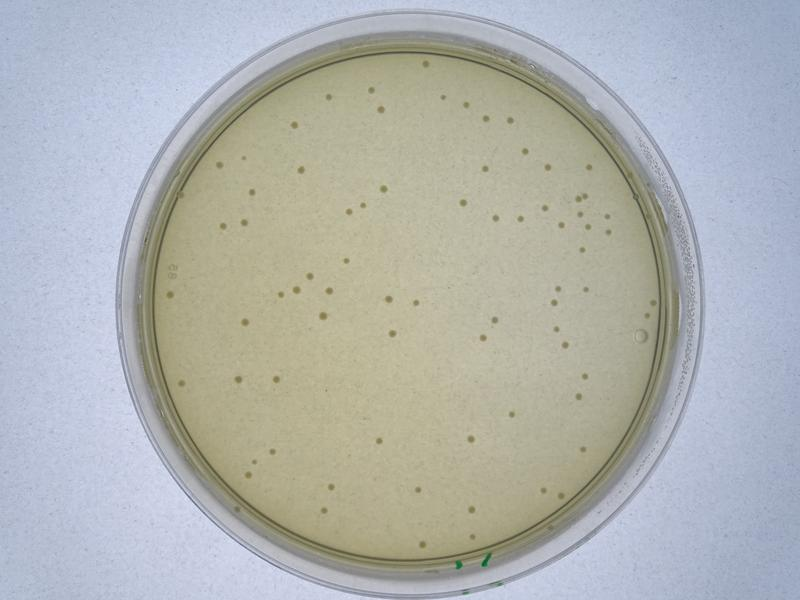colony: (315, 308, 330, 322), (569, 390, 585, 403), (372, 432, 384, 448), (295, 164, 308, 178), (300, 269, 316, 280), (487, 314, 504, 324), (383, 292, 396, 305), (478, 332, 489, 347), (465, 504, 478, 516), (288, 120, 301, 132), (269, 374, 283, 385), (517, 144, 528, 158), (319, 503, 329, 518), (237, 316, 250, 327), (415, 536, 426, 549), (341, 255, 354, 266), (465, 434, 477, 445), (378, 185, 391, 195), (455, 198, 468, 208), (479, 159, 489, 172), (374, 105, 388, 114), (324, 87, 333, 101), (410, 482, 421, 493), (232, 374, 244, 384), (325, 285, 335, 297), (504, 410, 517, 419), (327, 479, 335, 493), (577, 241, 585, 255), (515, 214, 526, 224), (385, 328, 397, 337), (539, 202, 548, 214), (489, 214, 499, 224), (577, 443, 587, 453), (561, 341, 572, 350), (238, 219, 248, 228), (542, 164, 551, 174), (367, 83, 375, 94), (467, 533, 477, 541), (411, 298, 421, 306)
